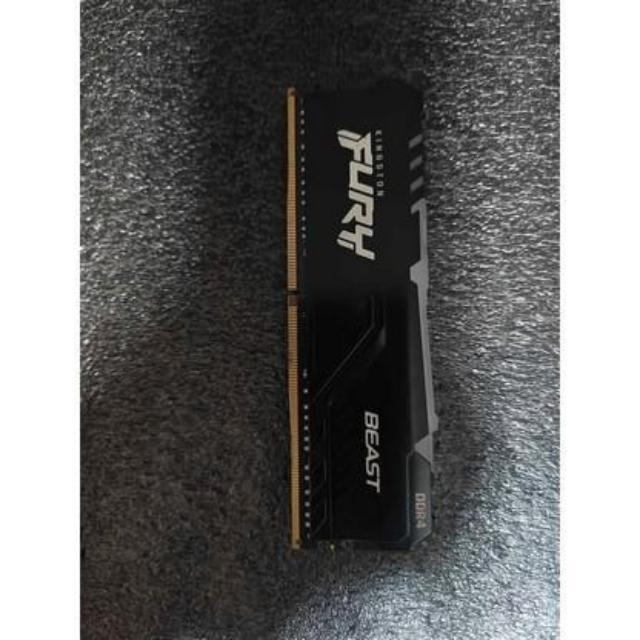RAM: (282, 81, 436, 559)
